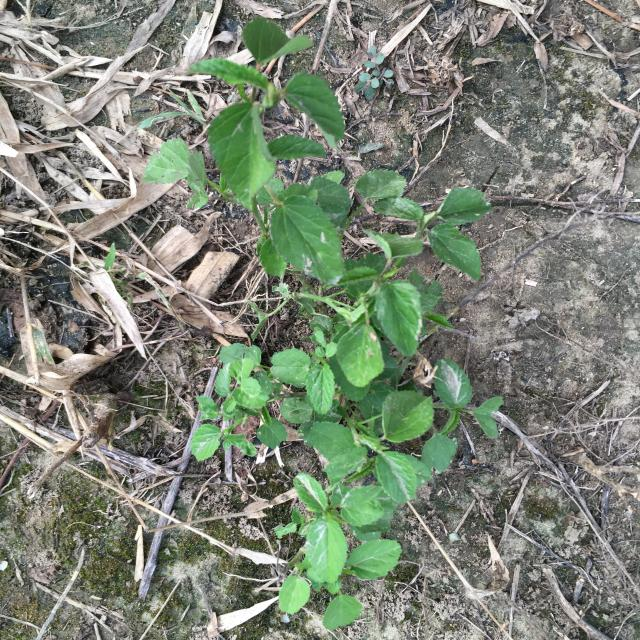PricklySida: (142, 17, 506, 631)
SpottedSpurge: (354, 45, 394, 101)
